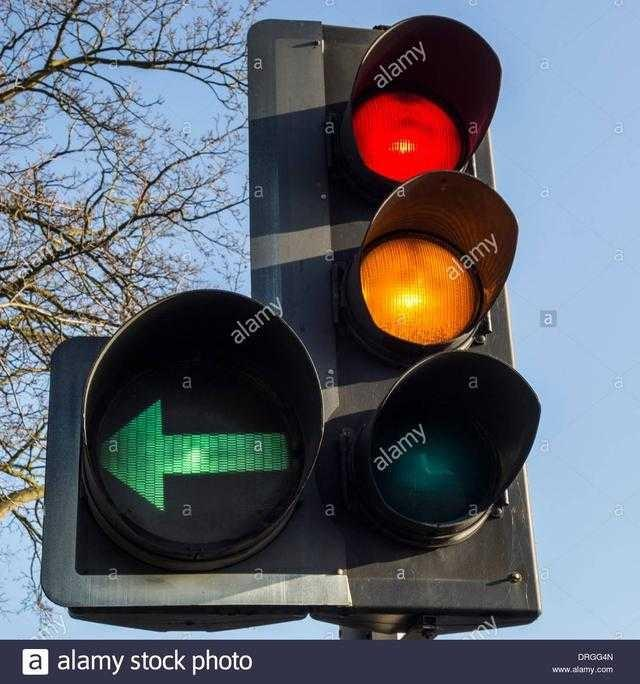green: (52, 268, 341, 578), (346, 348, 552, 543)
red: (340, 12, 511, 180)
